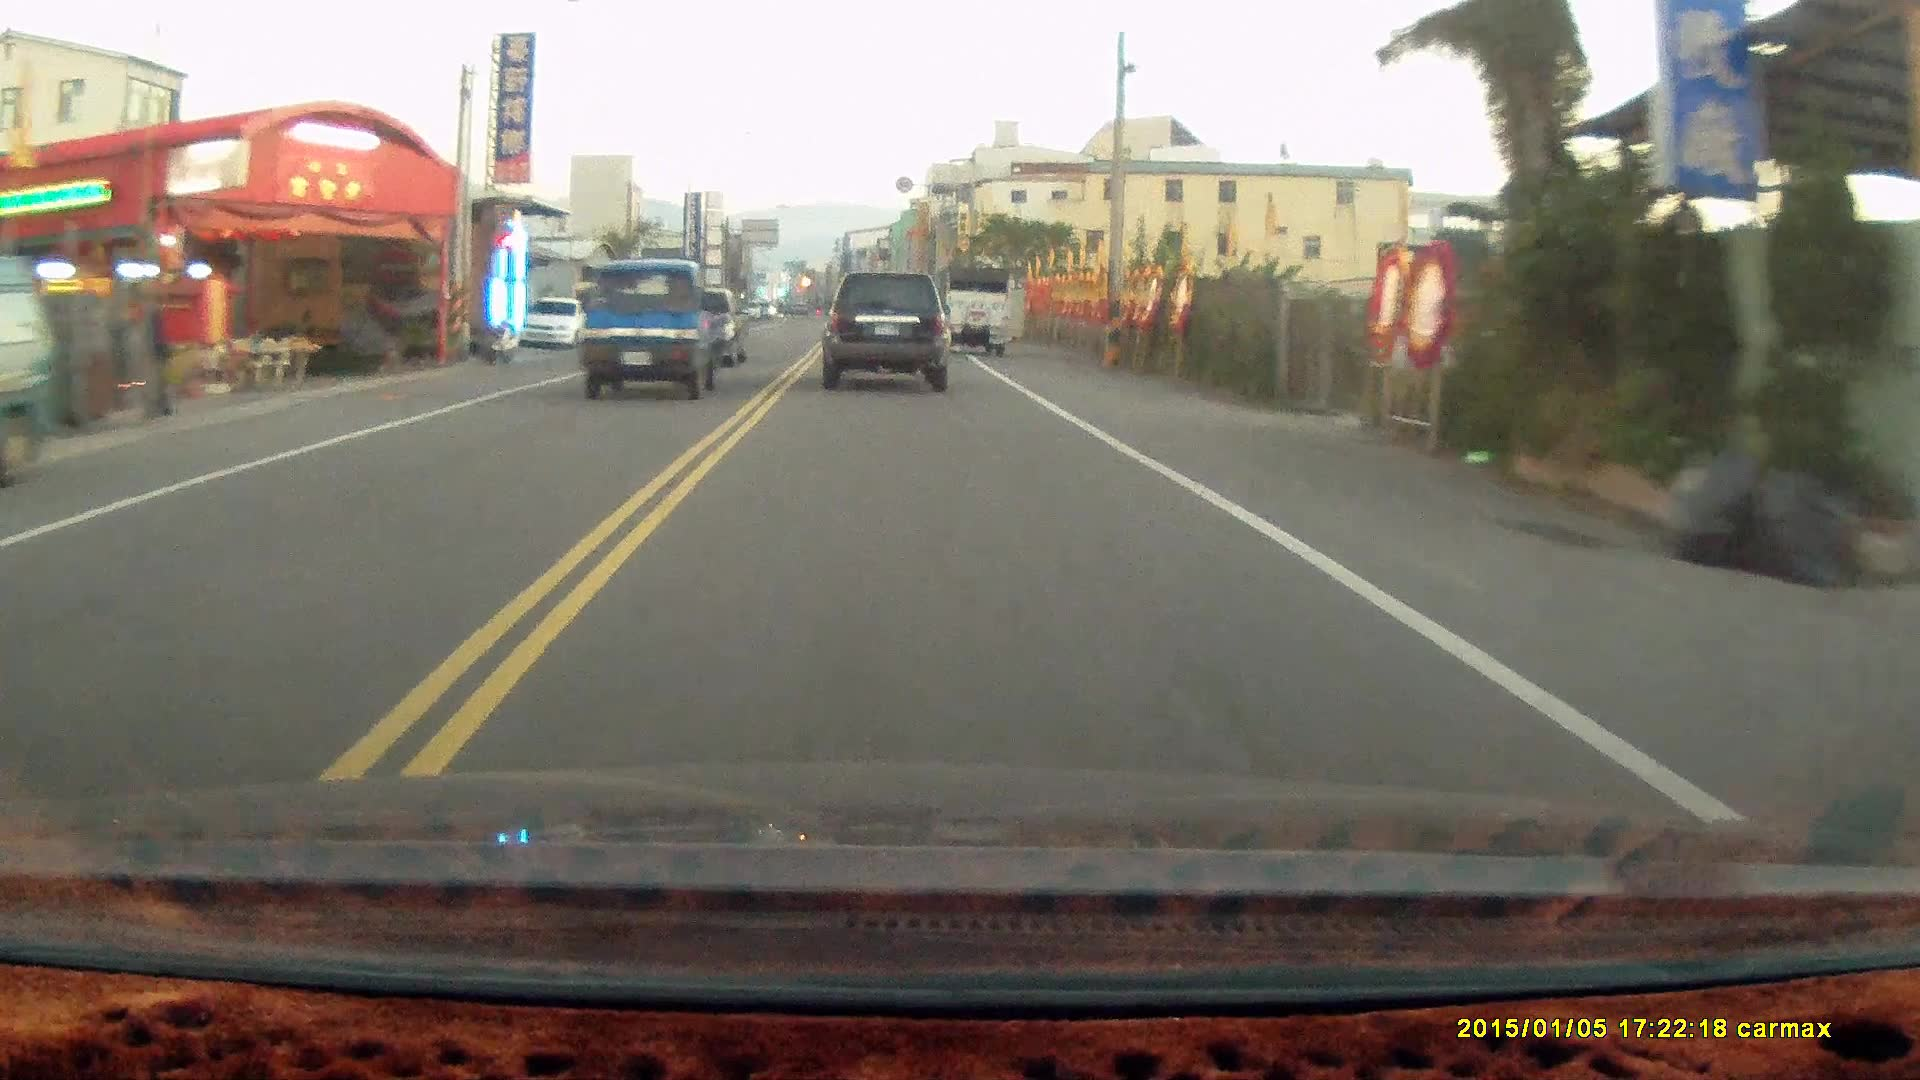vehicle: (574, 262, 746, 401), (824, 265, 960, 392), (1, 256, 65, 487), (938, 264, 1015, 359), (527, 297, 592, 352)
